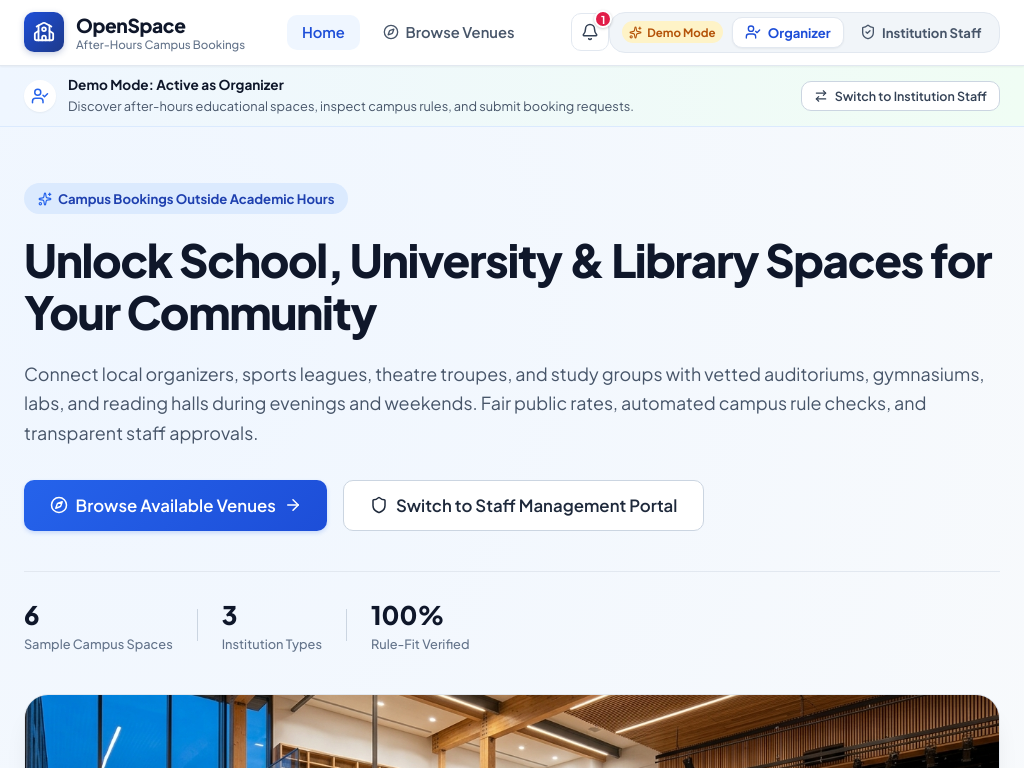
App Navigation and Shell Integration › navigates to Venues from the Hero CTA button
Click the button "Browse Available Venues" at point(176, 505), box [24,480,328,531]
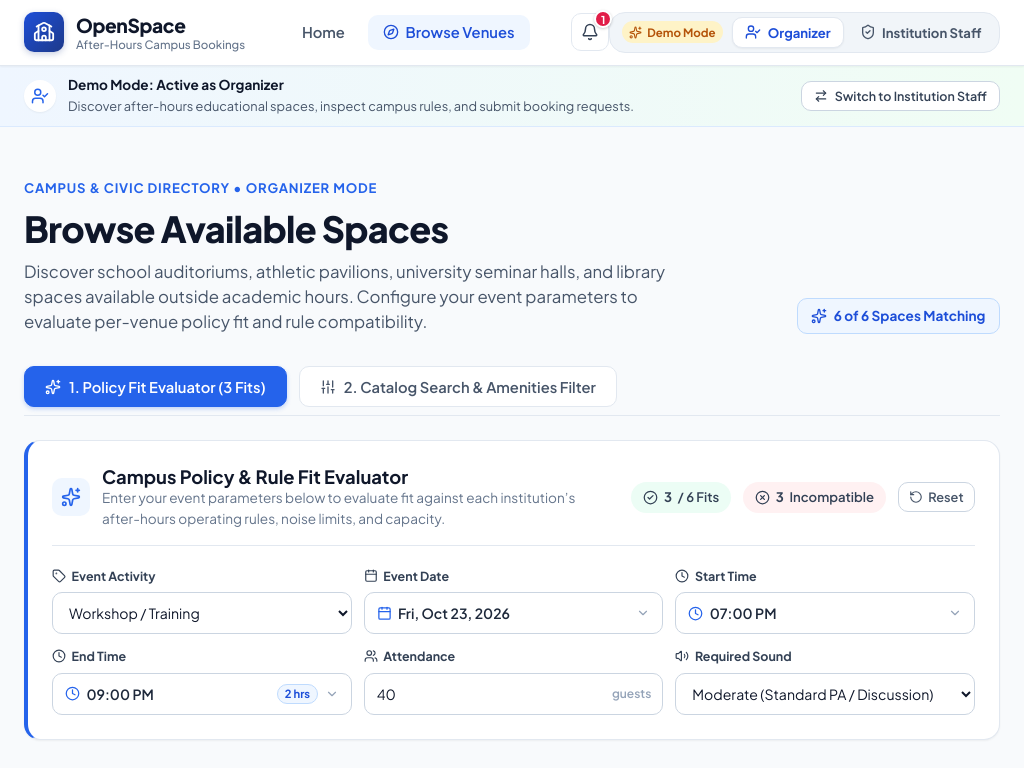
expect the heading "Browse Available Spaces" is shown: met, box [24,206,448,251]
